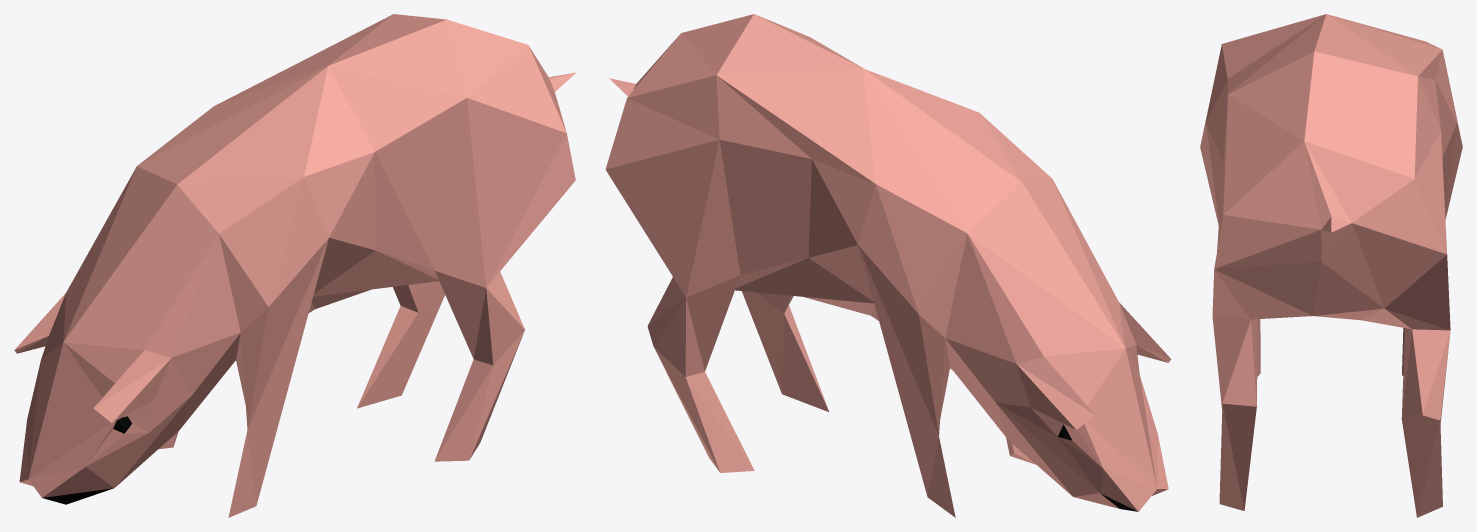
The model's file is Cerdo.fbx.
3 renders of one model, left to right at view 1: azimuth 30°, elevation 25°; view 2: azimuth 150°, elevation 25°; view 3: azimuth 270°, elevation 25°, orthographic. The views are drawn at different scales.
Parts seen in each view (by area): view 1: Cerdo; view 2: Cerdo; view 3: Cerdo.
Boxes of the visible parts, x1,y1,x2,y2 form: Cerdo: (14,14,576,517); Cerdo: (605,14,1171,517); Cerdo: (1200,14,1462,517).
Bounding box in the file's own units: 4540 × 3273 × 1654.
